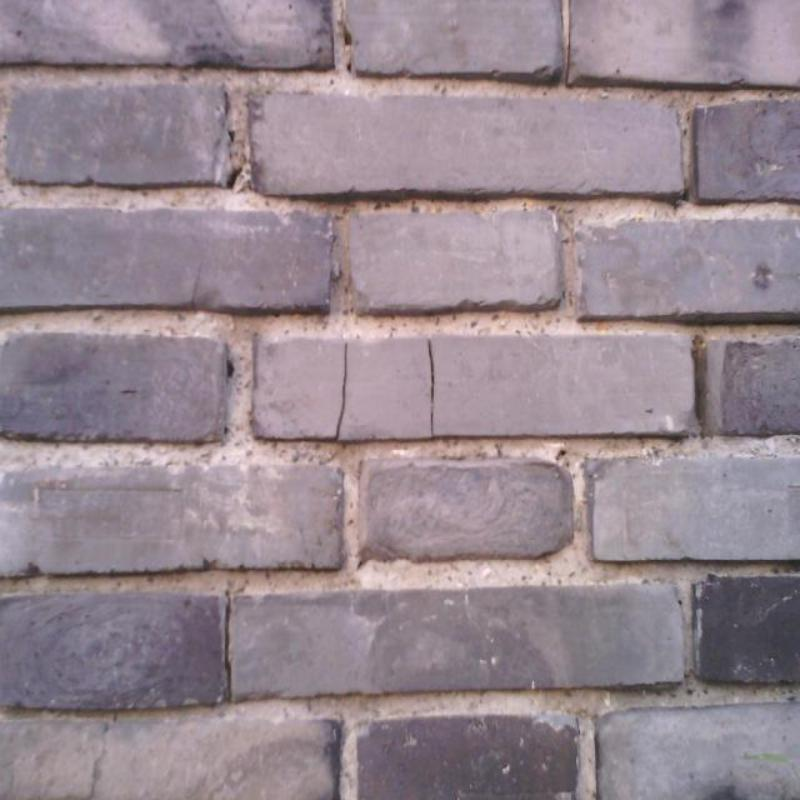pothole: (89, 721, 113, 799), (332, 342, 348, 440), (222, 596, 234, 699), (191, 250, 205, 308), (427, 339, 435, 438), (228, 168, 241, 188), (225, 362, 233, 379)
